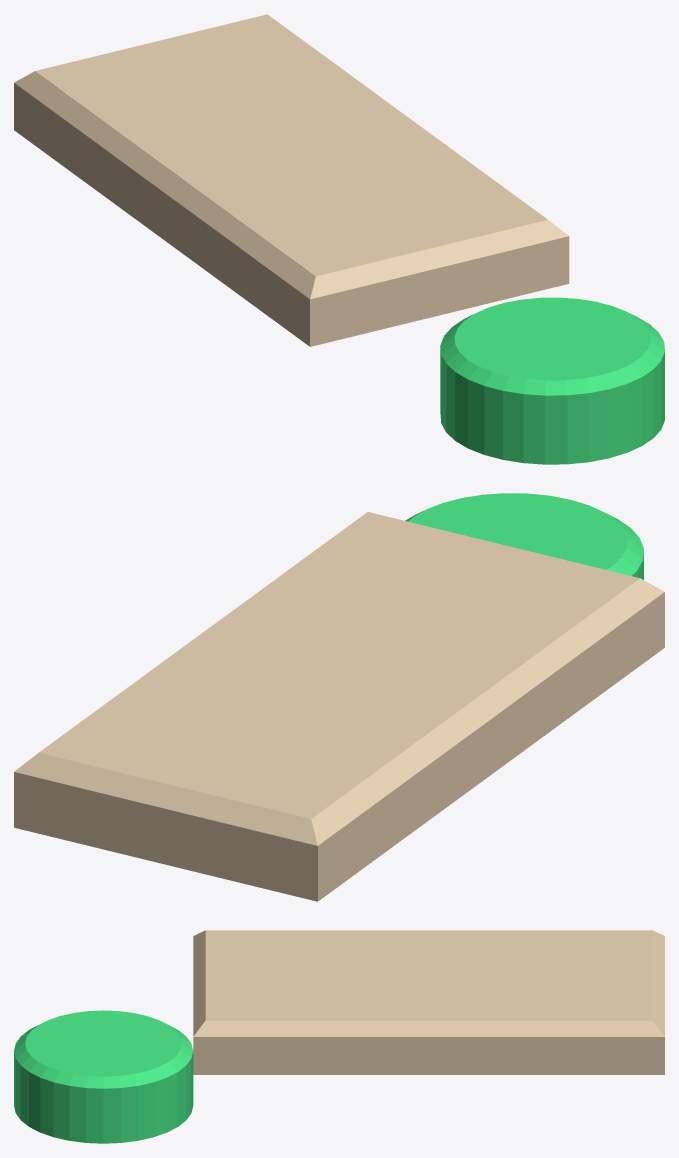
File: 2 buttons v2.fbx
3 views of the same model, one above another, from view 1: azimuth 30°, elevation 25°; view 2: azimuth 150°, elevation 25°; view 3: azimuth 270°, elevation 25° (orthographic). The views are drawn at different scales.
Parts seen in each view (by area): view 1: Cube, Cube.001; view 2: Cube, Cube.001; view 3: Cube, Cube.001.
Part boxes in pixels (<box>): Cube: <box>14,14,569,346</box>; Cube.001: <box>440,297,664,464</box>; Cube: <box>14,512,664,901</box>; Cube.001: <box>405,493,643,579</box>; Cube: <box>193,930,664,1074</box>; Cube.001: <box>14,1010,193,1143</box>.
Size of the model in its own units: 291 by 134 by 726.
